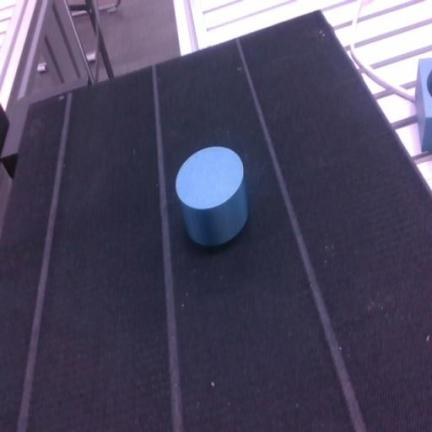cylinder: (176, 146, 248, 246)
